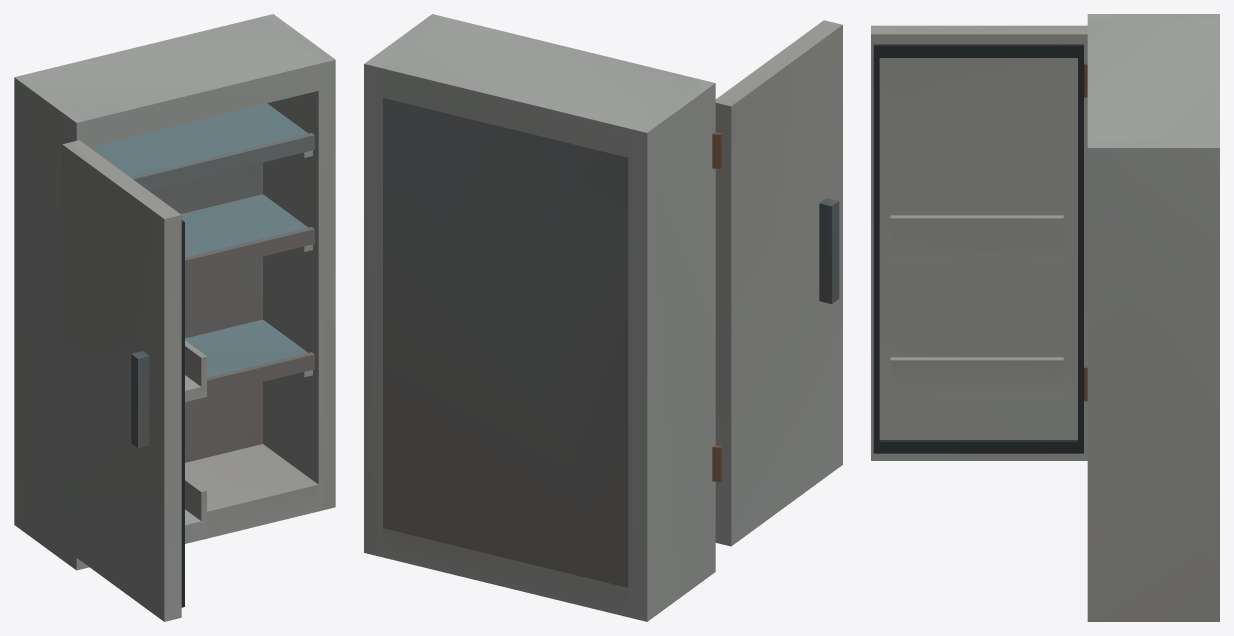
The model's file is fridge_open.glb.
3 renders of one model, left to right at view 1: azimuth 30°, elevation 25°; view 2: azimuth 150°, elevation 25°; view 3: azimuth 270°, elevation 25°, orthographic. The views are drawn at different scales.
Parts seen in each view (by area): view 1: fridge_open; view 2: fridge_open; view 3: fridge_open.
Part boxes in pixels (left/top/right/bottom): fridge_open: left=14, top=14, right=335, bottom=621; fridge_open: left=364, top=14, right=842, bottom=621; fridge_open: left=871, top=14, right=1219, bottom=621.
Size of the model in its own units: 1 by 1.5 by 1.
